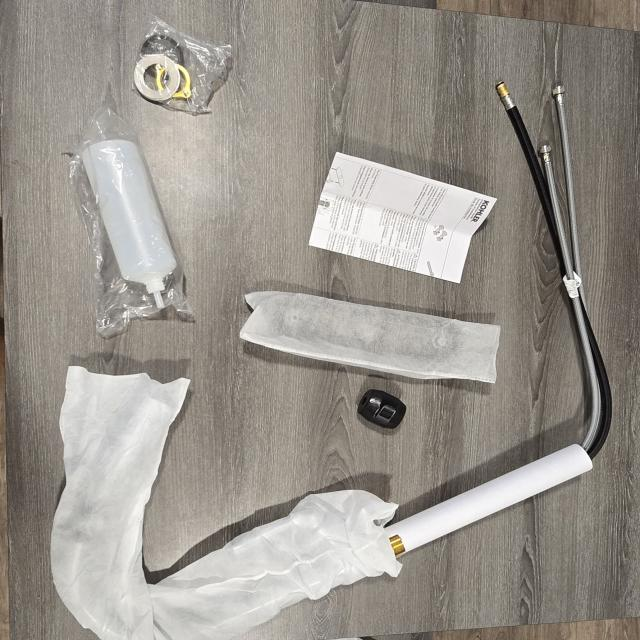1c: (51, 81, 611, 640)
3: (65, 108, 192, 338)
4c: (240, 291, 500, 383)
5: (356, 389, 406, 429)
6: (133, 15, 232, 114)
8: (309, 152, 496, 283)
